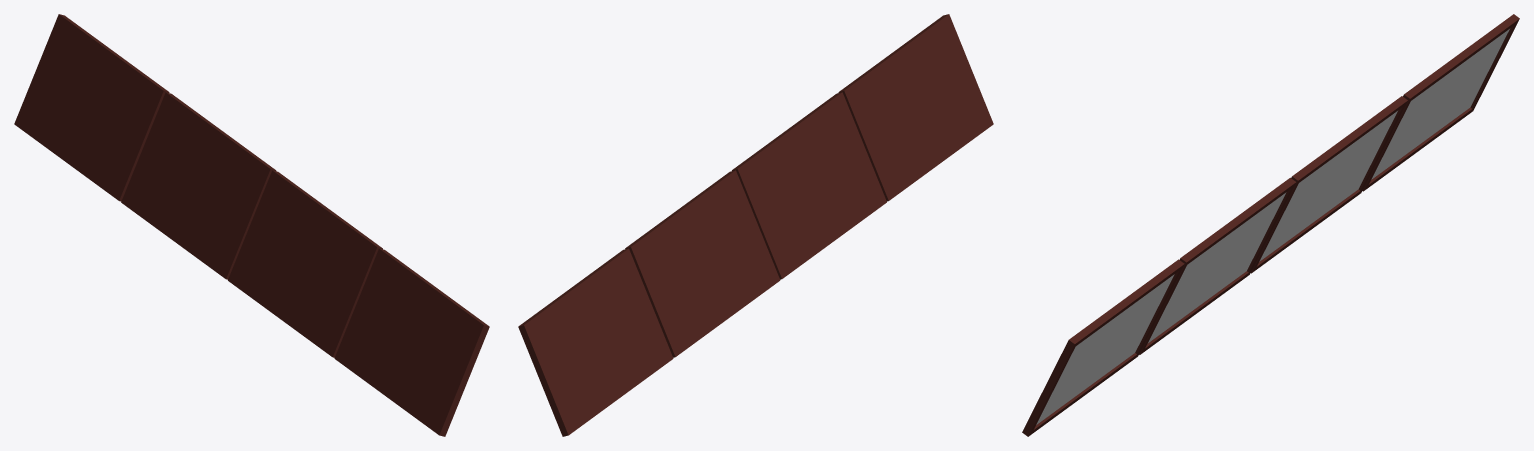
The model's file is Dinner_Menu.fbx.
3 views of the same model, side by side, from view 1: azimuth 30°, elevation 25°; view 2: azimuth 150°, elevation 25°; view 3: azimuth 330°, elevation 25° (orthographic). The views are drawn at different scales.
Parts seen in each view (by area): view 1: Cube.072; view 2: Cube.072; view 3: Cube.076, Cube.072.
Boxes of the visible parts, x1=… form: Cube.072: x1=14, y1=14, x2=489, y2=436; Cube.072: x1=518, y1=14, x2=993, y2=436; Cube.076: x1=1036, y1=29, x2=1509, y2=424; Cube.072: x1=1022, y1=14, x2=1519, y2=436.
Size of the model in its own units: 56.32 by 109 by 821.
